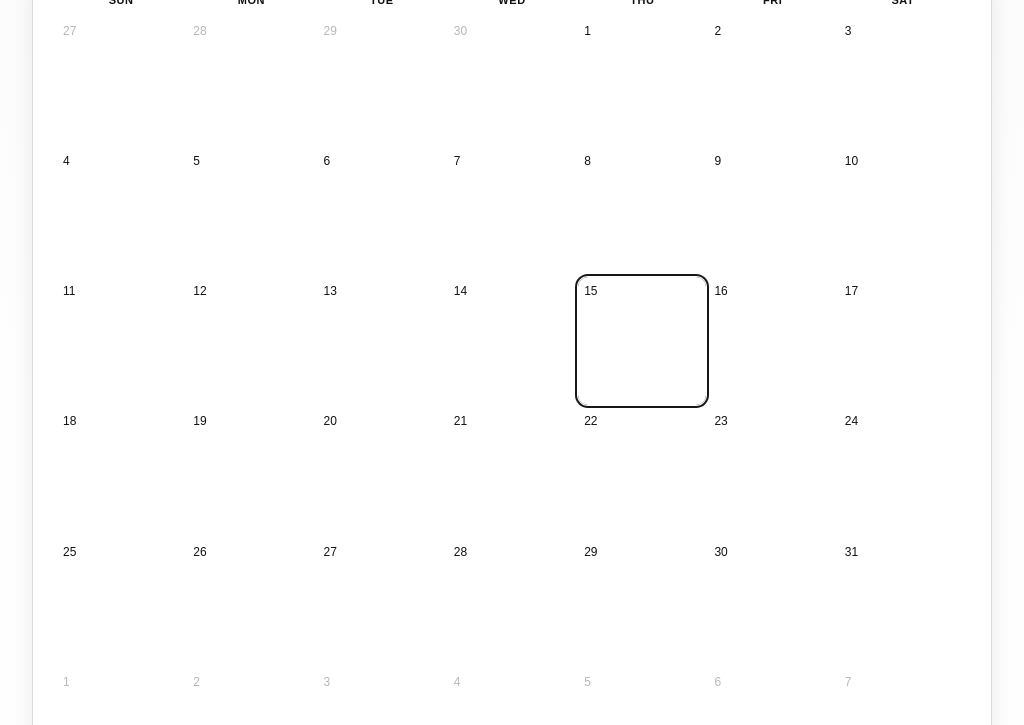
Test: FinancialCalendar Page › opens Add Transaction dialog for selected day and saves transaction
Later steps or results of the test are not shown.
(page scrolled)
Select October 15
Click the button with test id "cal-day-2026-10-15" at (642, 341), box [578,277,706,405]
(page scrolled)
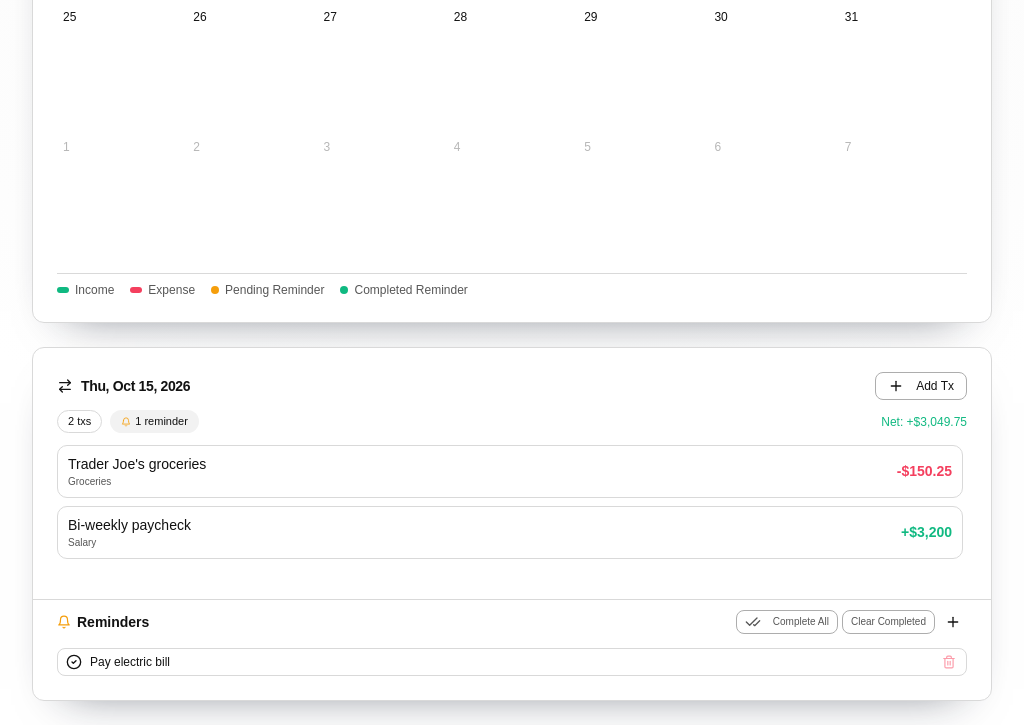
Click Add Tx button in day detail panel
Click the button with test id "button-add-calendar-tx" at (921, 386), box [875,372,967,400]
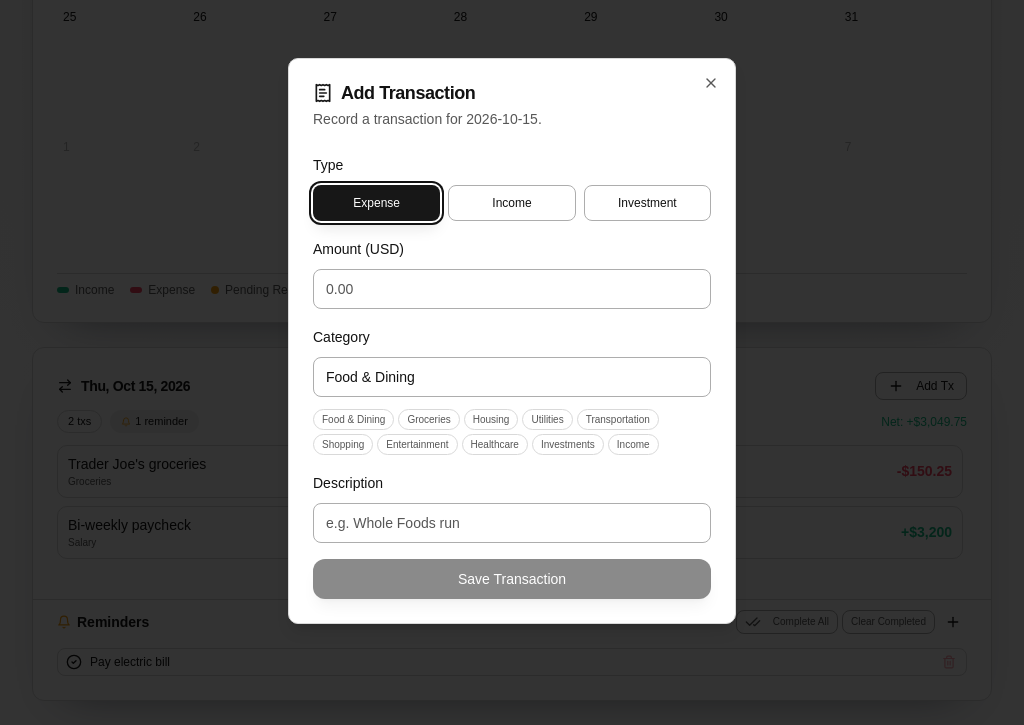
Result: the dialog with test id "dialog-add-calendar-tx" is shown at [288,58,736,624]
Result: the text "Record a transaction for 2026-10-15." is shown at [313,111,542,127]
